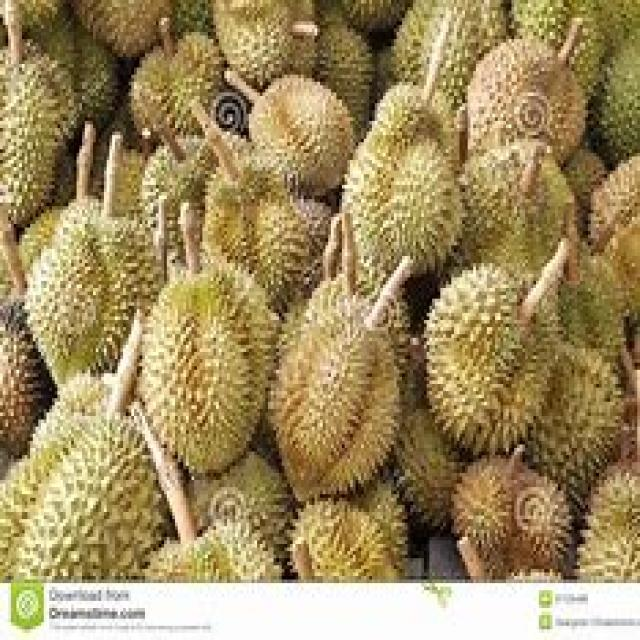mature: (269, 280, 399, 500), (452, 447, 571, 579), (468, 39, 586, 162)
